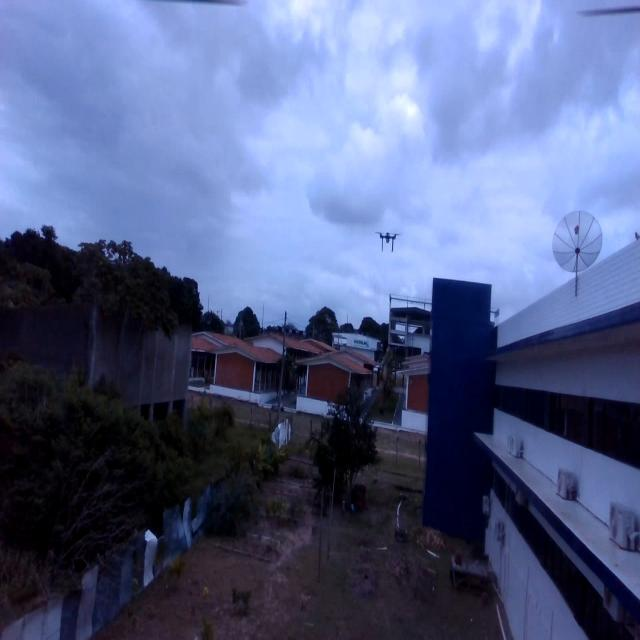-uav-: (370, 221, 403, 259)
